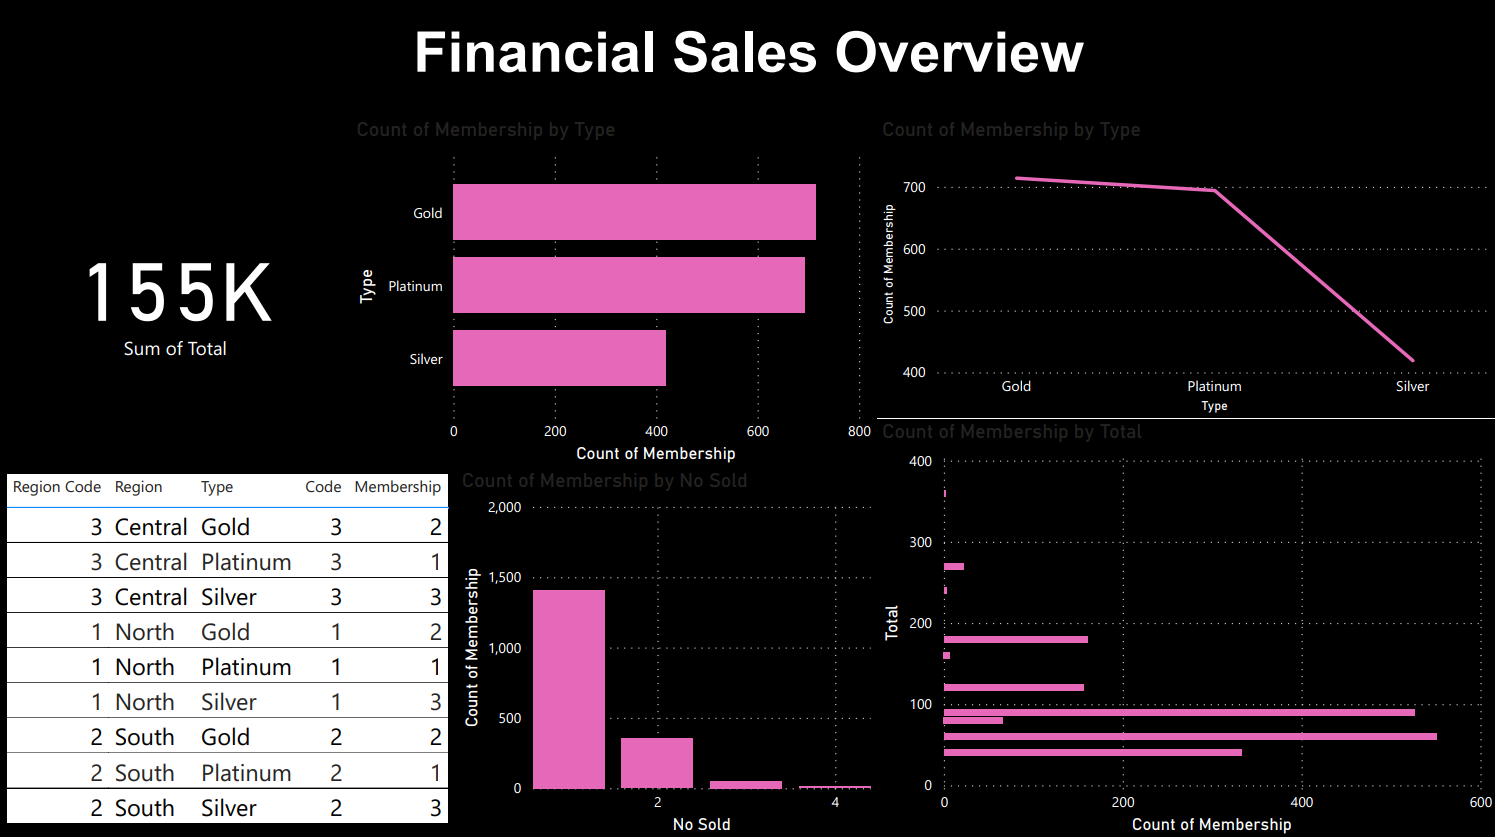

What the dashboard file says about the page in this screenshot:
{"tool":"powerbi","page":{"name":"Page 1","canvas":[1280,720],"ordinal":0},"visuals":[{"type":"card","fields":{"Values":["Sum(Sales.Total)"]},"box":[0,103.3,299.6,299.6],"z":0},{"type":"clusteredBarChart","fields":{"Category":["Sales.Total"],"Y":["CountNonNull(Sales.Membership)"]},"box":[749.1,360.7,530.9,359.3],"z":1000},{"type":"lineClusteredColumnComboChart","fields":{"Category":["Sales.No Sold"],"Y":["CountNonNull(Sales.Membership)"]},"box":[389.8,402.9,359.3,317.1],"z":2000},{"type":"barChart","fields":{"Y":["CountNonNull(Sales.Membership)"],"Category":["Membership.Type"]},"box":[299.6,103.3,449.5,299.6],"z":3000},{"type":"tableEx","fields":{"Values":["Sales.Region Code","Region.Region","Membership.Type","Region.Code","Sales.Membership"]},"box":[0,402.9,389.8,317.1],"z":4000},{"type":"lineChart","fields":{"Category":["Membership.Type"],"Y":["CountNonNull(Sales.Membership)"]},"box":[749.1,103.3,530.9,257.5],"z":4001},{"type":"textbox","box":[0,0,1280,103.3],"z":4002}]}

Visuals, with their boxes in screenshot pixels (x1, y1, x2, y2), scaled from the page's 1280x720 canvas onto the 1495x837 screenshot:
card - Sum(Sales.Total): box=[0, 120, 350, 468]
clusteredBarChart - Sales.Total x CountNonNull(Sales.Membership): box=[875, 419, 1494, 836]
lineClusteredColumnComboChart - Sales.No Sold x CountNonNull(Sales.Membership): box=[455, 468, 875, 836]
barChart - CountNonNull(Sales.Membership) x Membership.Type: box=[350, 120, 875, 468]
tableEx - Sales.Region Code x Region.Region: box=[0, 468, 455, 836]
lineChart - Membership.Type x CountNonNull(Sales.Membership): box=[875, 120, 1494, 419]
textbox: box=[0, 0, 1494, 120]
